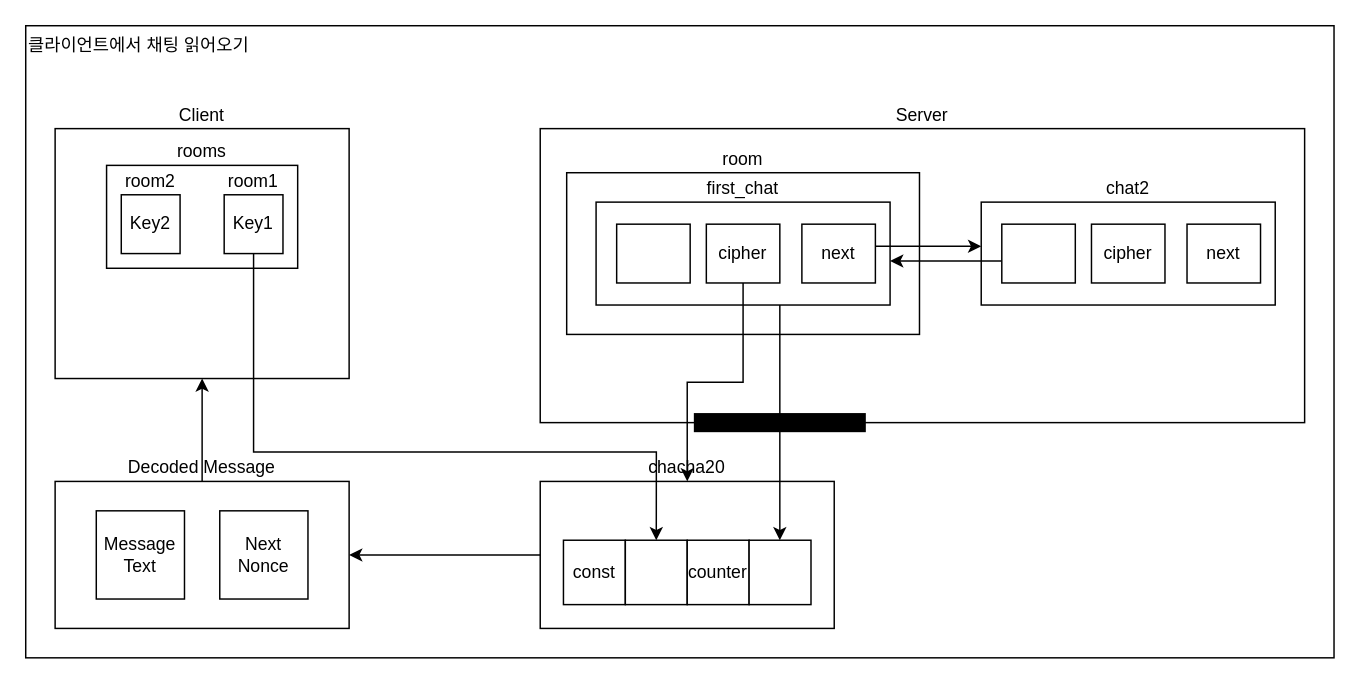
Some shapes in this 1360 by 684 pixel diagram are drawn without their labels. The centre of each missing label's shape, as x and y in pixels:
"key" goes at pixel 655 572.
"nonce" goes at pixel 779 572.
"prev" goes at pixel 1037 253.
"prev (null)" goes at pixel 652 253.
